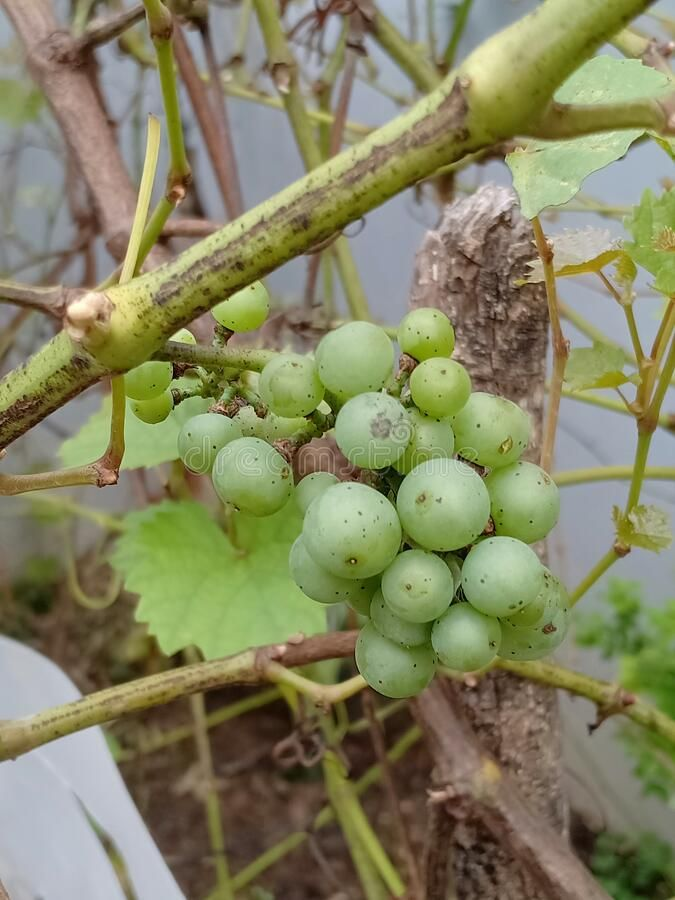grapes: (181, 322, 580, 721)
